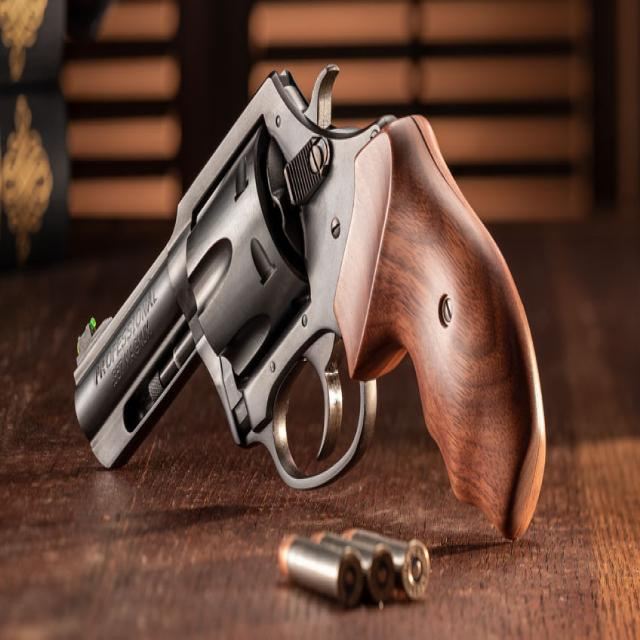Gun: (48, 47, 570, 548)
